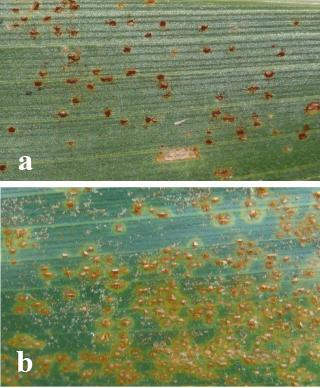Corn rust leaf: (3, 188, 320, 385), (1, 2, 319, 179)
